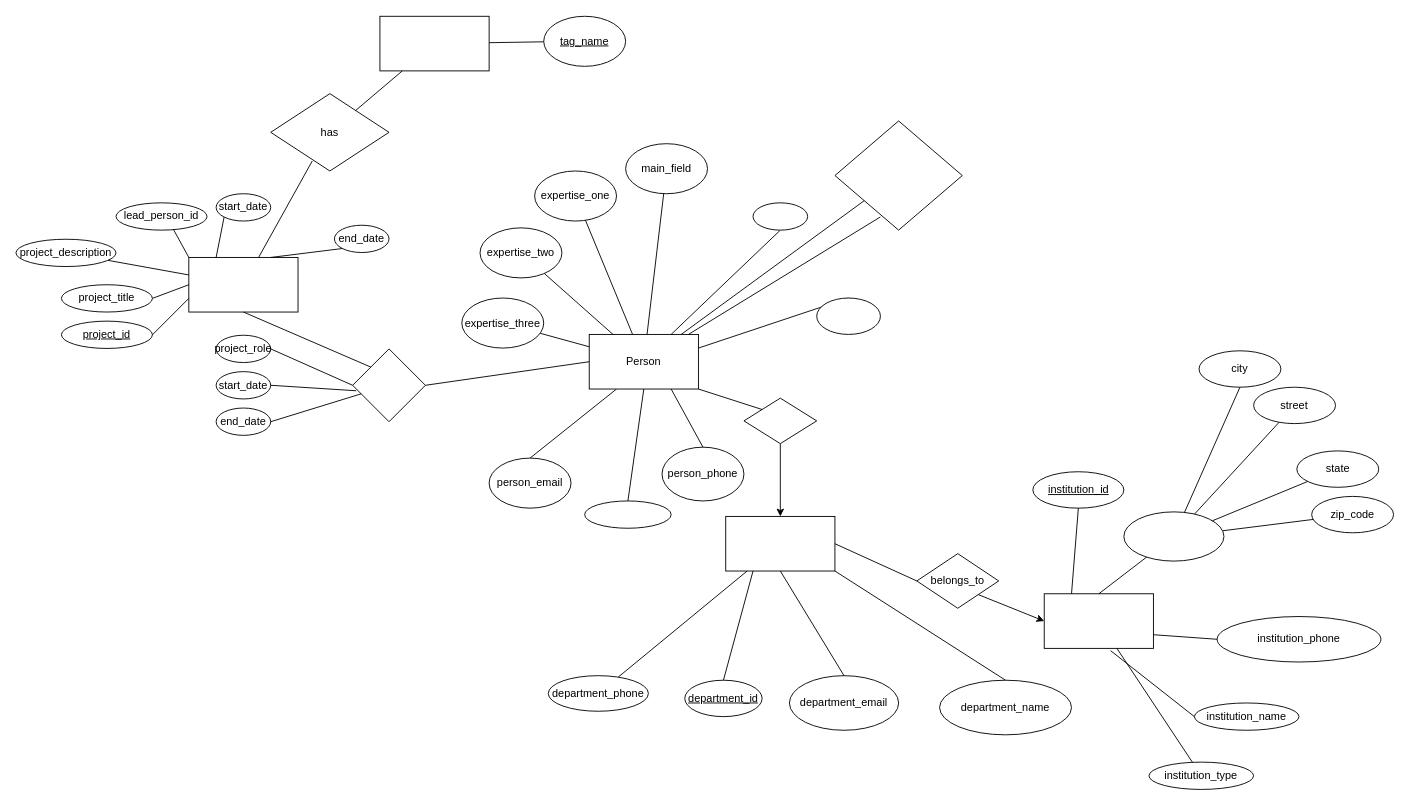
Some shapes in this 1410 by 805 pixel diagram are drawn without their labels. Each missing label, with the centre of its shape:
"bio" belongs at point (780, 216).
"Department" belongs at point (780, 543).
"expertise_match" belongs at point (898, 175).
"Institution" belongs at point (1098, 620).
"institution_address" belongs at point (1173, 536).
"person_id" belongs at point (848, 315).
"person_name" belongs at point (627, 514).
"Project" belongs at point (243, 284).
"tags" belongs at point (434, 43).
"worked_on" belongs at point (388, 385).
"works_in" belongs at point (780, 420).
